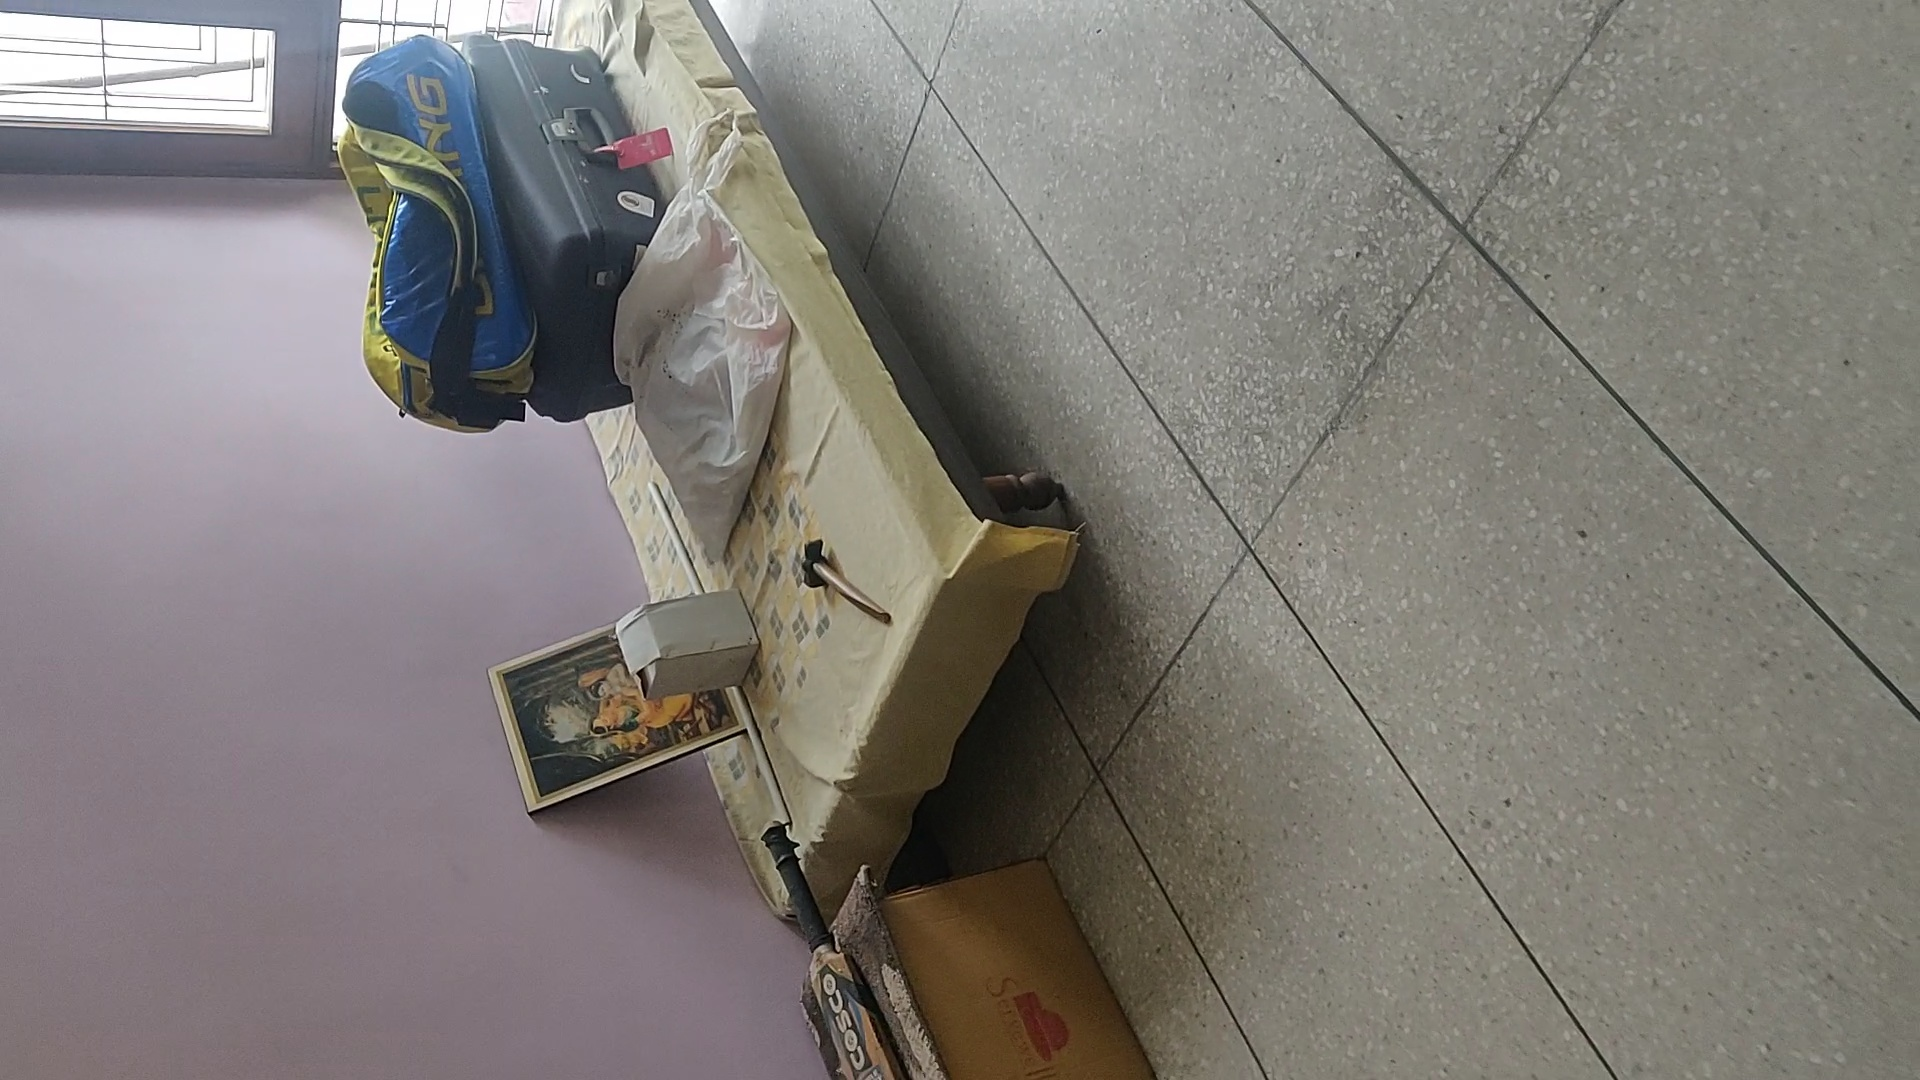hammer: (800, 539, 891, 628)
